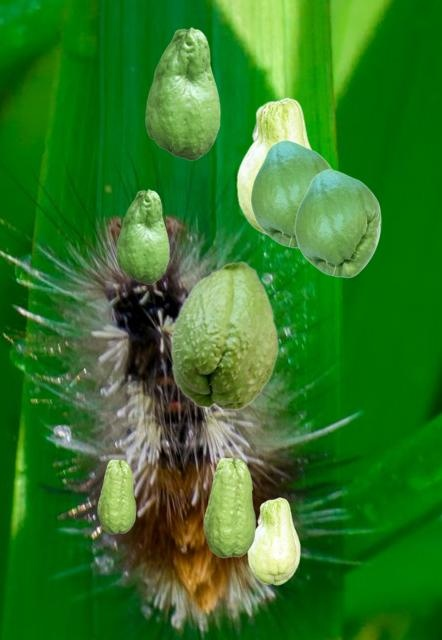sayote: (170, 260, 278, 410), (236, 97, 312, 235), (145, 27, 219, 159), (294, 169, 380, 277), (250, 140, 332, 248), (203, 457, 255, 557), (116, 189, 168, 283), (247, 497, 299, 584), (97, 459, 135, 533)
